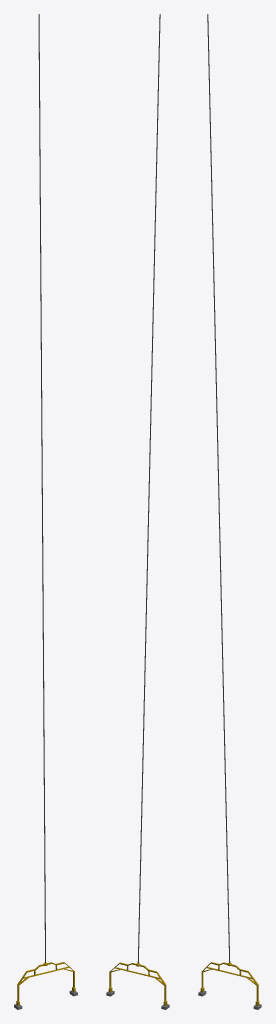
File: Halterung4.fbx
3 renders of one model, left to right at view 1: azimuth 30°, elevation 25°; view 2: azimuth 150°, elevation 25°; view 3: azimuth 330°, elevation 25°, orthographic.
Visible parts, largest first — view 1: StartHalterung4; view 2: StartHalterung4; view 3: StartHalterung4.
Boxes of the visible parts, <box> form: StartHalterung4: <box>14,14,77,1009</box>; StartHalterung4: <box>106,14,169,1009</box>; StartHalterung4: <box>198,14,261,1009</box>.
Bounding box in the file's own units: 4909 × 77424 × 1398.
